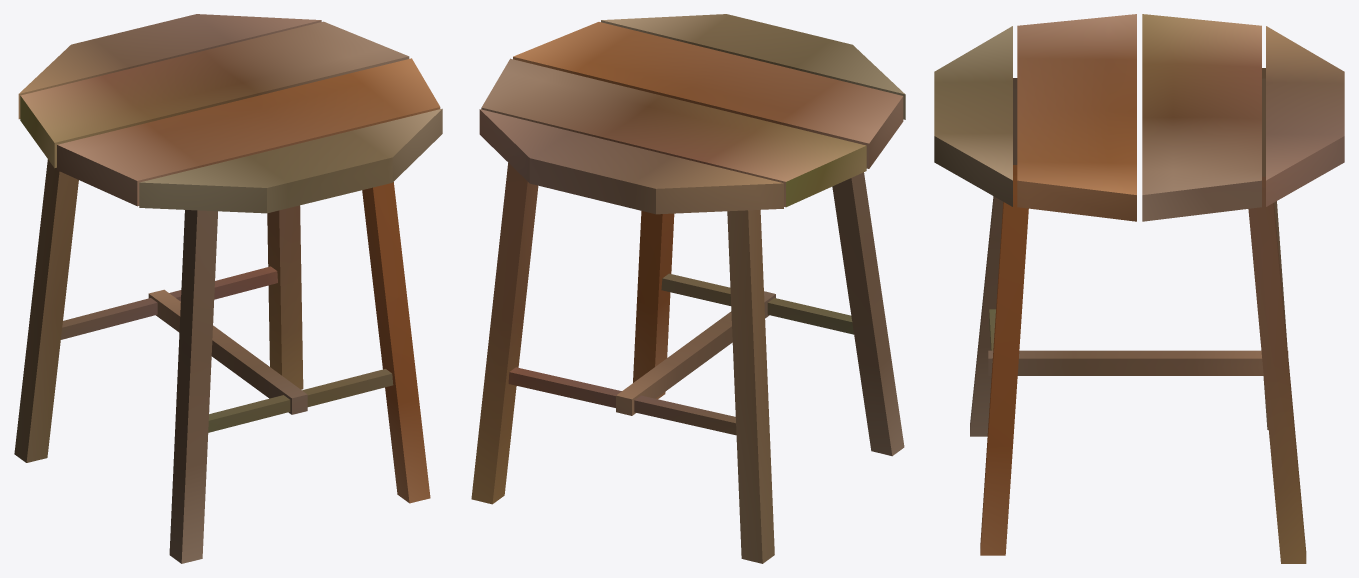
The model's file is mega-pack-cube-334.glb.
3 renders of one model, left to right at view 1: azimuth 30°, elevation 25°; view 2: azimuth 150°, elevation 25°; view 3: azimuth 270°, elevation 25°, orthographic. The views are drawn at different scales.
Parts seen in each view (by area): view 1: Cube.334; view 2: Cube.334; view 3: Cube.334.
Boxes of the visible parts, box(x1,y1,x2,y2) form: Cube.334: box(14, 14, 442, 563); Cube.334: box(471, 14, 905, 563); Cube.334: box(934, 14, 1344, 563).
Bounding box in the file's own units: 0.383 × 0.3835 × 0.3665.
1 material, 1 textured.
